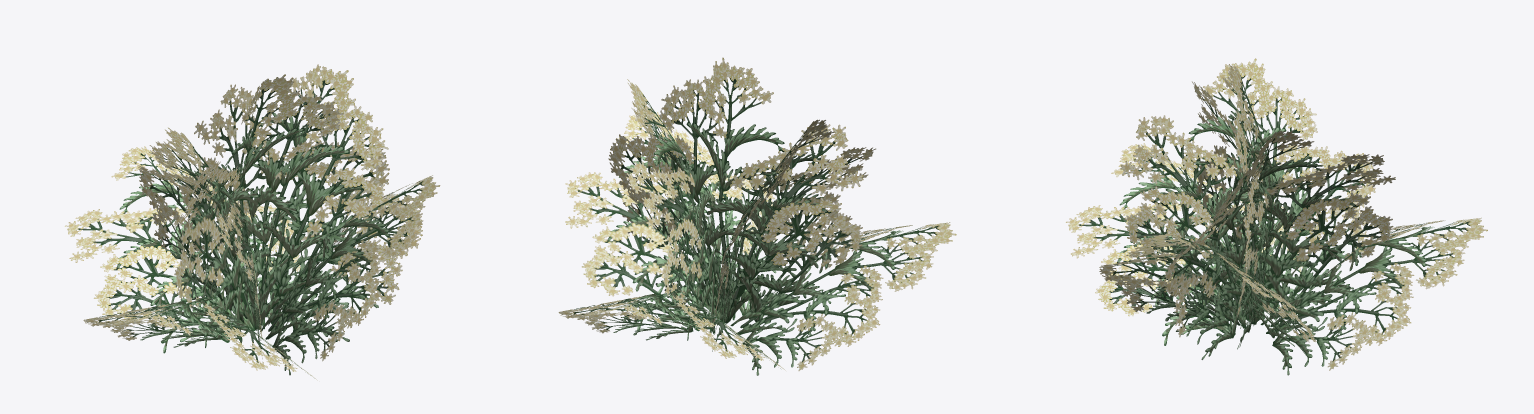
File: Flowers_01.fbx
3 renders of one model, left to right at view 1: azimuth 30°, elevation 25°; view 2: azimuth 150°, elevation 25°; view 3: azimuth 270°, elevation 25°, orthographic. The views are drawn at different scales.
Parts seen in each view (by area): view 1: polySurface2; view 2: polySurface2; view 3: polySurface2.
Boxes of the visible parts, bbox=[...] form: polySurface2: bbox=[65, 64, 440, 380]; polySurface2: bbox=[558, 57, 956, 375]; polySurface2: bbox=[1066, 58, 1487, 375].
Size of the model in its own units: 3.79 by 2.35 by 3.63.
1 material, 1 textured.
